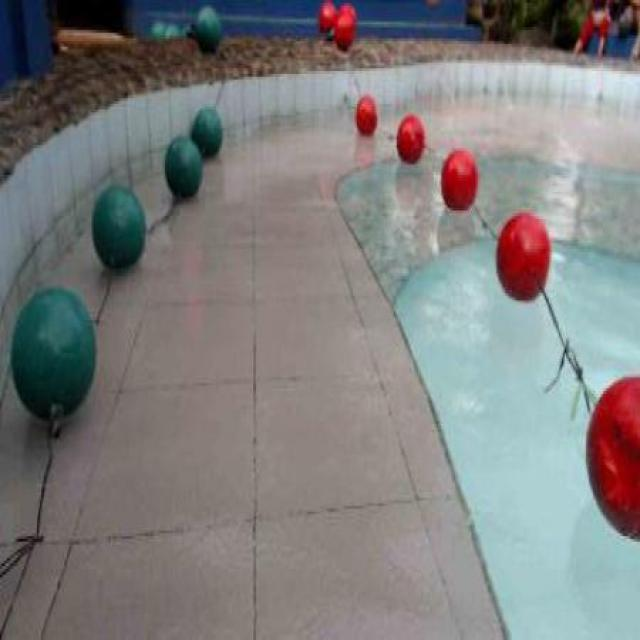buoy: (10, 286, 94, 419), (584, 376, 638, 544), (492, 213, 550, 302), (91, 183, 147, 271), (439, 146, 478, 215), (164, 133, 202, 196), (191, 106, 221, 156), (396, 115, 426, 164), (196, 4, 220, 51), (354, 94, 378, 136)
